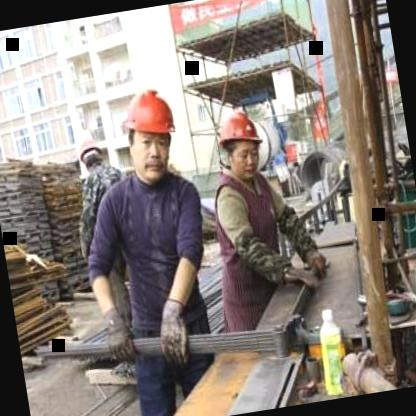helmet: (116, 80, 191, 183), (207, 102, 270, 186), (75, 134, 104, 174)
